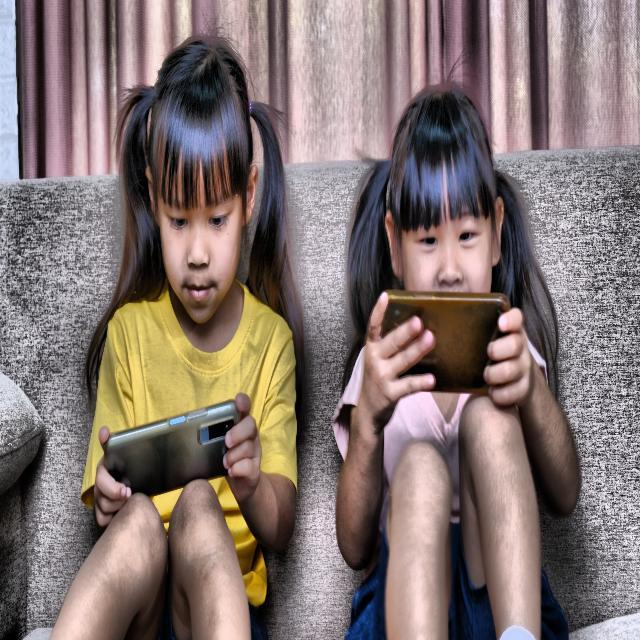Phone: (100, 402, 247, 495), (380, 292, 513, 394)
